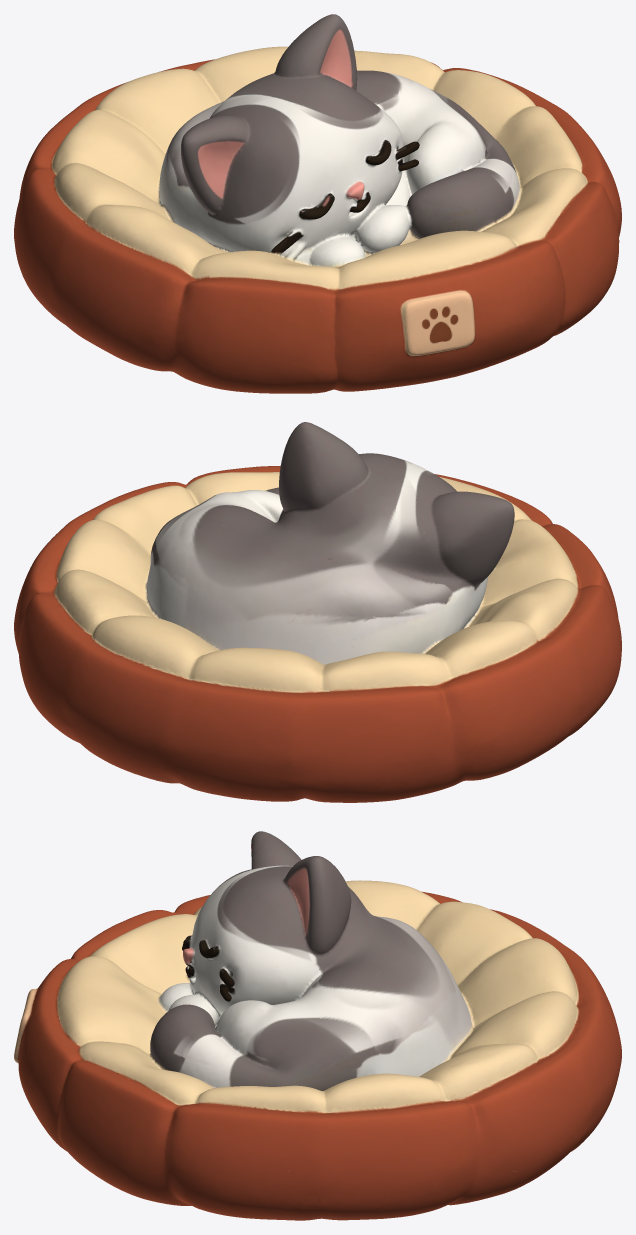
Rendered from gray-catnap-original.glb.
The picture shows the model from 3 angles, top to bottom: view 1: azimuth 30°, elevation 25°; view 2: azimuth 150°, elevation 25°; view 3: azimuth 270°, elevation 25°; orthographic projection.
Bounding box in the file's own units: 1.88 × 0.8953 × 1.9.
Materials: 1 (1 with a texture image).
